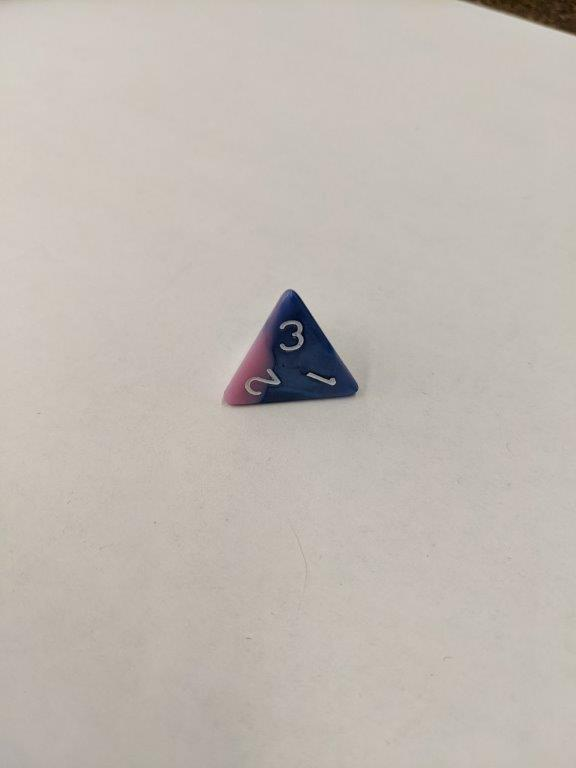d4-3: (209, 284, 363, 410)
